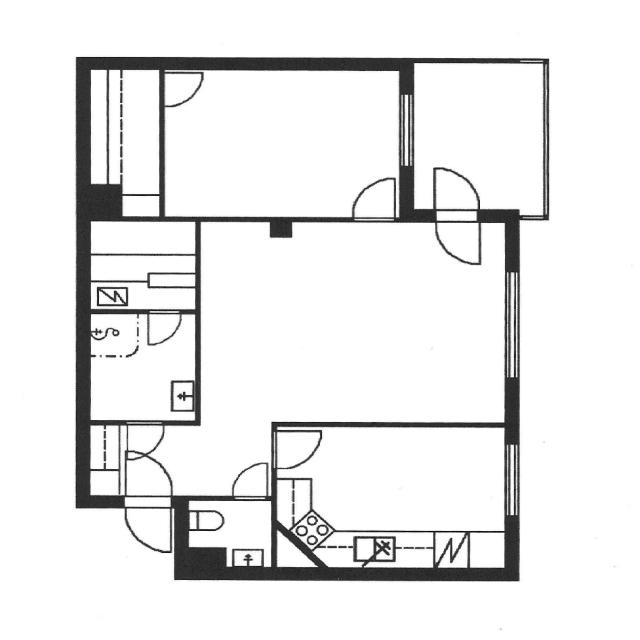door: (426, 163, 487, 267), (119, 488, 178, 554), (270, 422, 327, 473), (347, 172, 400, 222), (157, 65, 211, 111), (120, 419, 170, 466), (225, 458, 273, 500), (140, 308, 186, 349)
window: (495, 264, 531, 388), (392, 88, 422, 175), (499, 436, 527, 522)
zone: (198, 216, 514, 421), (160, 66, 408, 224), (275, 422, 517, 570), (407, 59, 549, 215), (82, 308, 200, 424), (83, 215, 202, 312), (85, 64, 164, 201), (182, 498, 274, 575)
